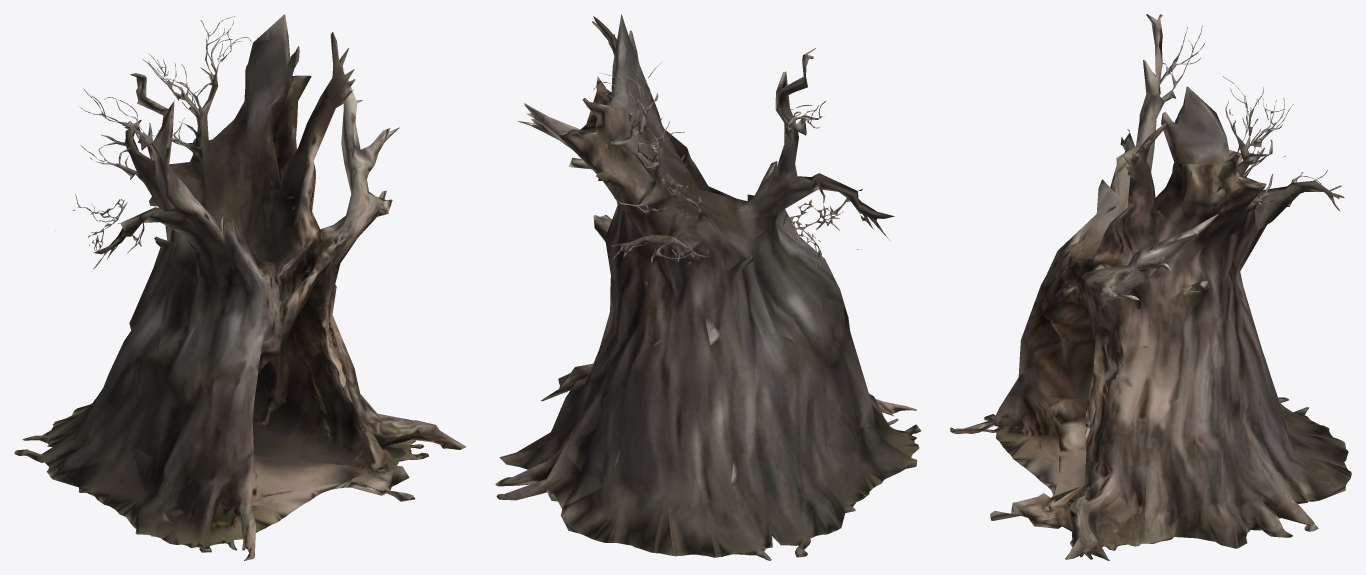
The model's file is old-stump.glb.
3 renders of one model, left to right at view 1: azimuth 30°, elevation 25°; view 2: azimuth 150°, elevation 25°; view 3: azimuth 270°, elevation 25°, orthographic. The views are drawn at different scales.
Size of the model in its own units: 3.47 by 4 by 3.47.
Materials: 1 (1 with a texture image).
